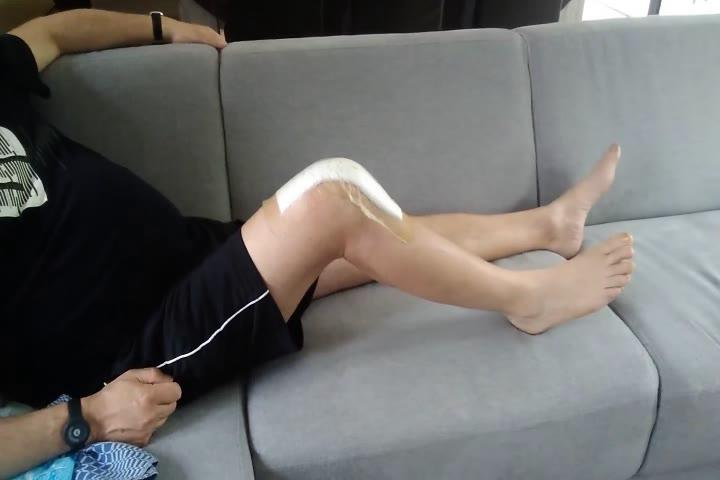lower_body: (115, 134, 645, 409)
